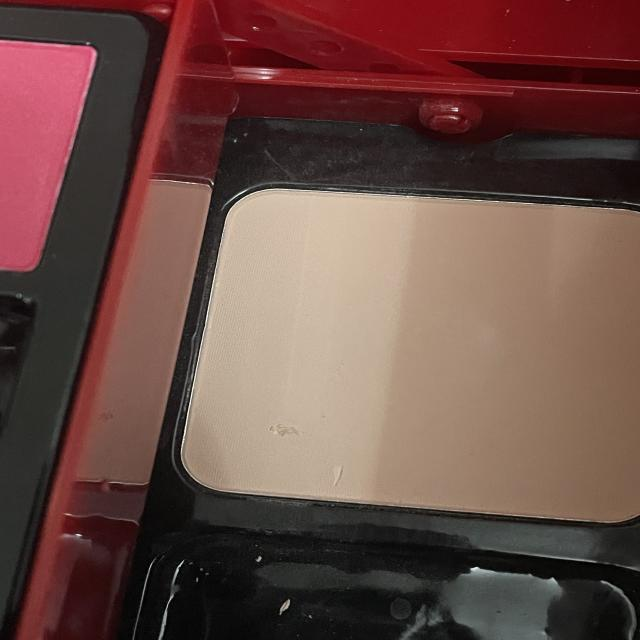powder: (161, 166, 640, 527)
